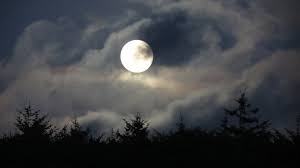moon: (120, 40, 154, 73)
